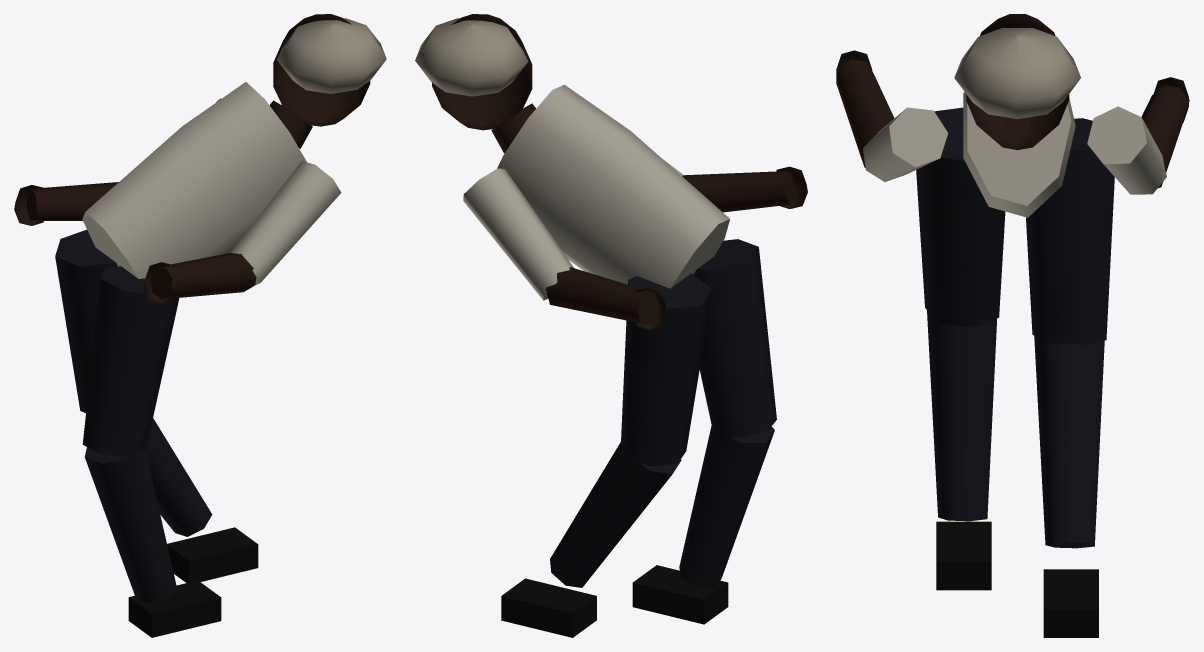
The model's file is HUMAN_M2.dae.
The picture shows the model from 3 angles, left to right: view 1: azimuth 30°, elevation 25°; view 2: azimuth 150°, elevation 25°; view 3: azimuth 270°, elevation 25°; orthographic projection. The views are drawn at different scales.
Visible parts, largest first — view 1: HUMAN_M2; view 2: HUMAN_M2; view 3: HUMAN_M2.
Boxes of the visible parts, x1,y1,x2,y2 form: HUMAN_M2: (14, 14, 386, 637); HUMAN_M2: (415, 14, 807, 637); HUMAN_M2: (836, 14, 1189, 637).
Bounding box in the file's own units: 0.8359 × 0.6778 × 1.38.
